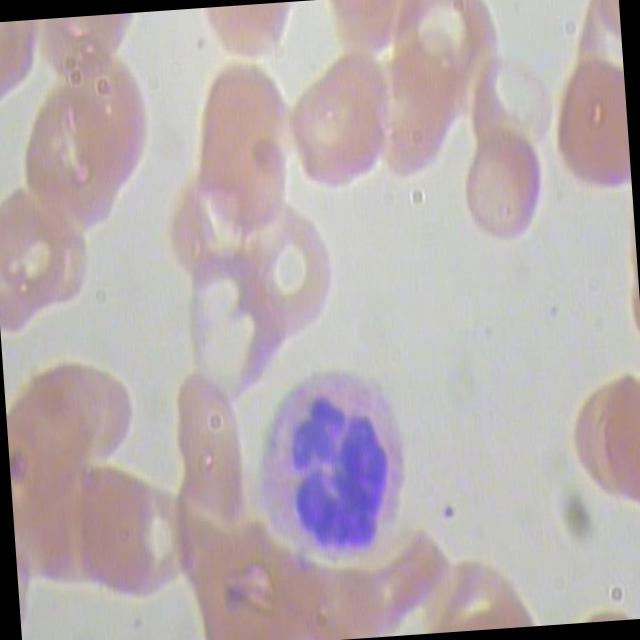RBC: (184, 56, 304, 237), (282, 45, 402, 204), (12, 87, 126, 244), (158, 370, 248, 527), (548, 54, 630, 196), (460, 53, 555, 175), (246, 210, 334, 338), (456, 132, 546, 255)
WBC: (240, 355, 430, 576)
